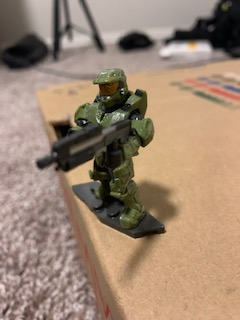chief: (67, 69, 156, 233)
rifle: (30, 119, 132, 175)
spartan: (65, 67, 154, 231)
